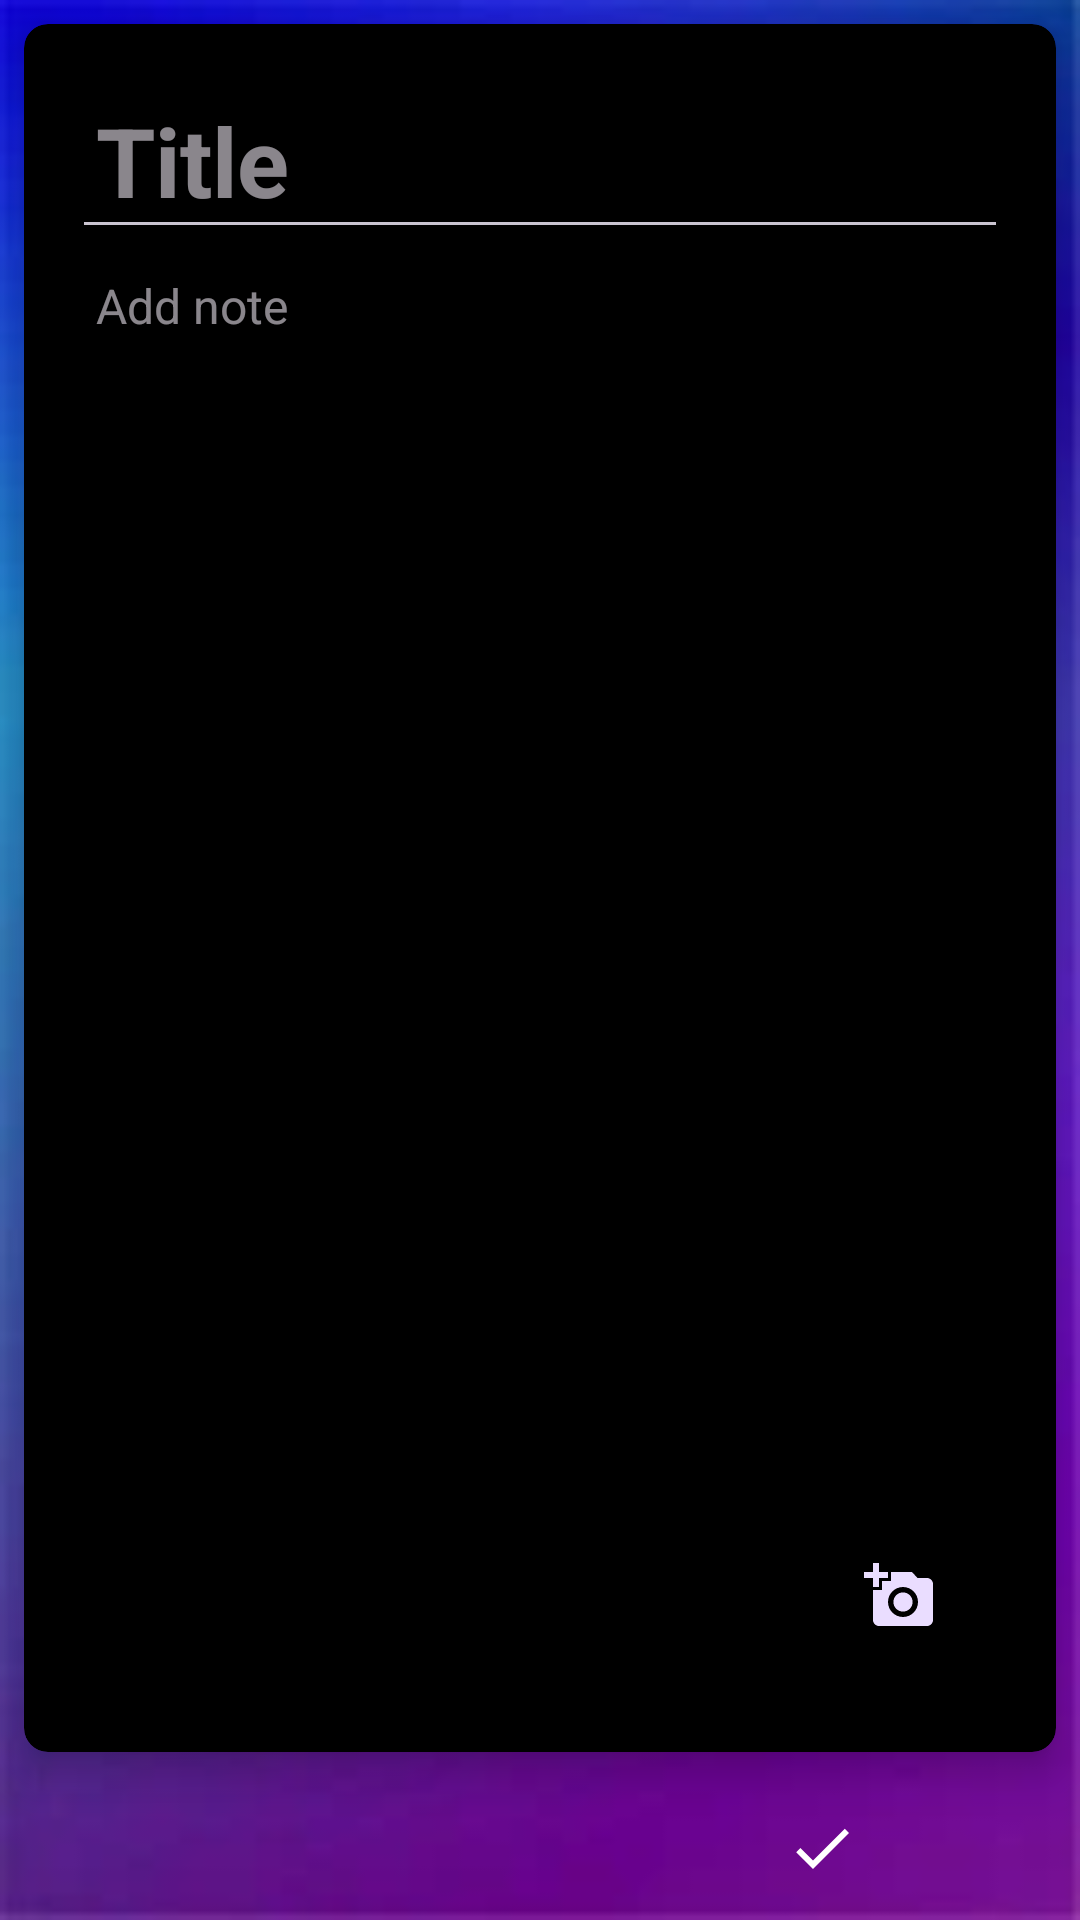

Screen size 1080px×1920px. Icon name, then its center in pixels as (x=x, y=y):
Take a photo: (x=898, y=1594)
